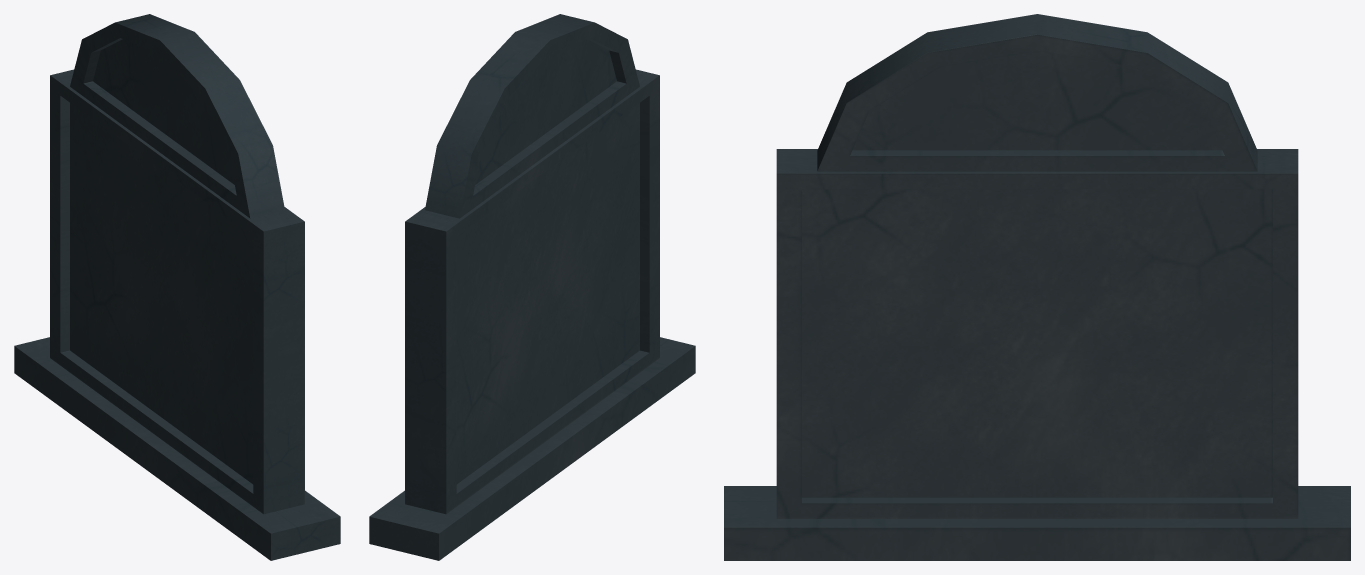
File: Gravestone11_Model.fbx
3 views of the same model, side by side, from view 1: azimuth 30°, elevation 25°; view 2: azimuth 150°, elevation 25°; view 3: azimuth 270°, elevation 25° (orthographic). The views are drawn at different scales.
Visible parts, largest first — view 1: Gravestone11; view 2: Gravestone11; view 3: Gravestone11.
Part boxes in pixels (left/top/right/bottom): Gravestone11: left=14, top=14, right=340, bottom=560; Gravestone11: left=369, top=14, right=695, bottom=560; Gravestone11: left=724, top=14, right=1350, bottom=560.
Size of the model in its own units: 11.12 by 64.18 by 70.7.
